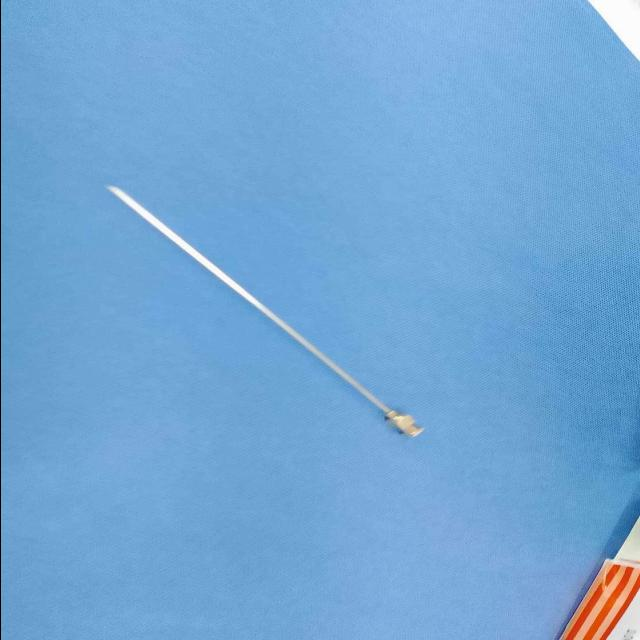Pathological: (4, 2, 638, 637)
Sharps: (105, 185, 425, 437)
